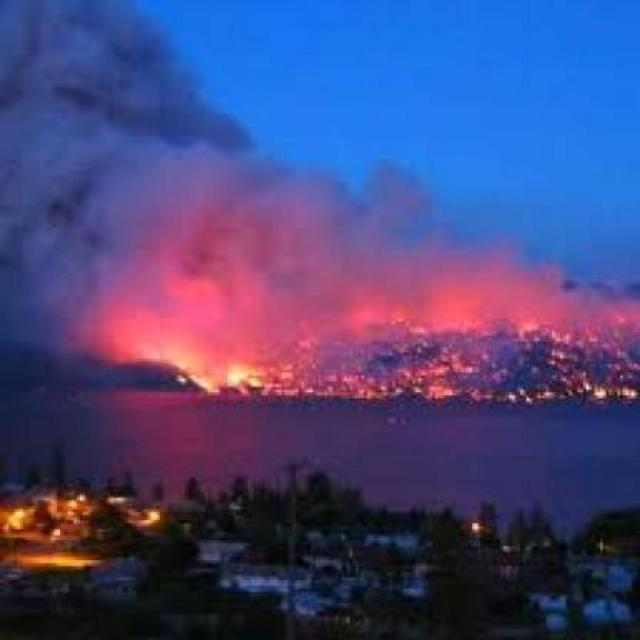Smoke: (0, 0, 577, 395)
